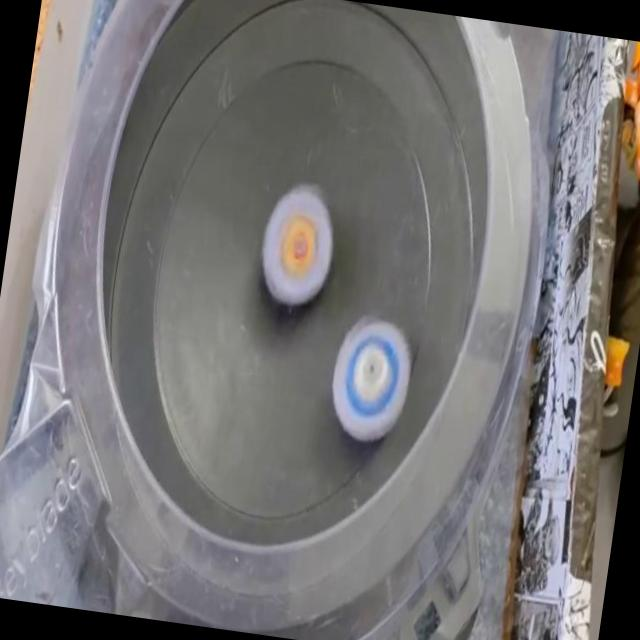Beyblade: (324, 310, 419, 448), (252, 186, 340, 313)
